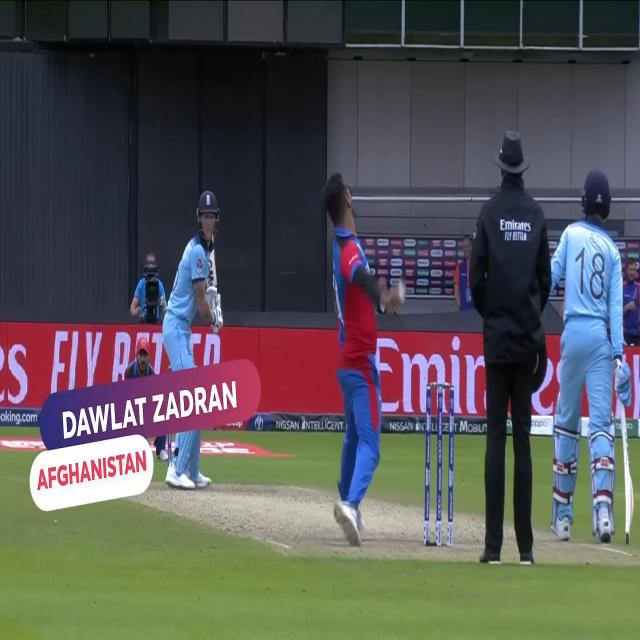ball: (396, 280, 407, 306)
